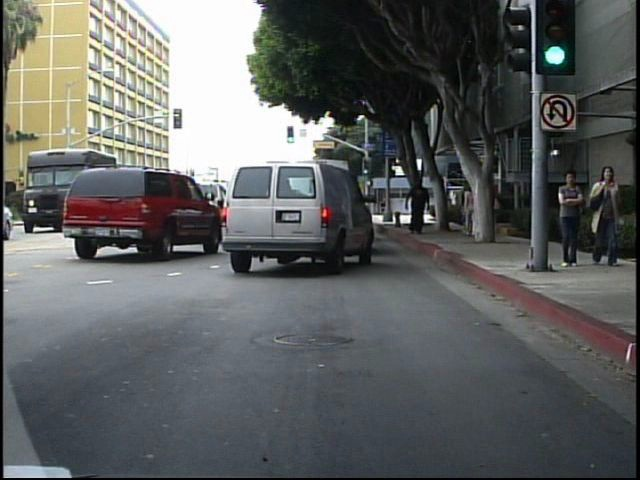person: (587, 161, 626, 271), (555, 169, 587, 273), (403, 180, 432, 238), (483, 172, 504, 242), (460, 177, 480, 247), (414, 186, 428, 220)
